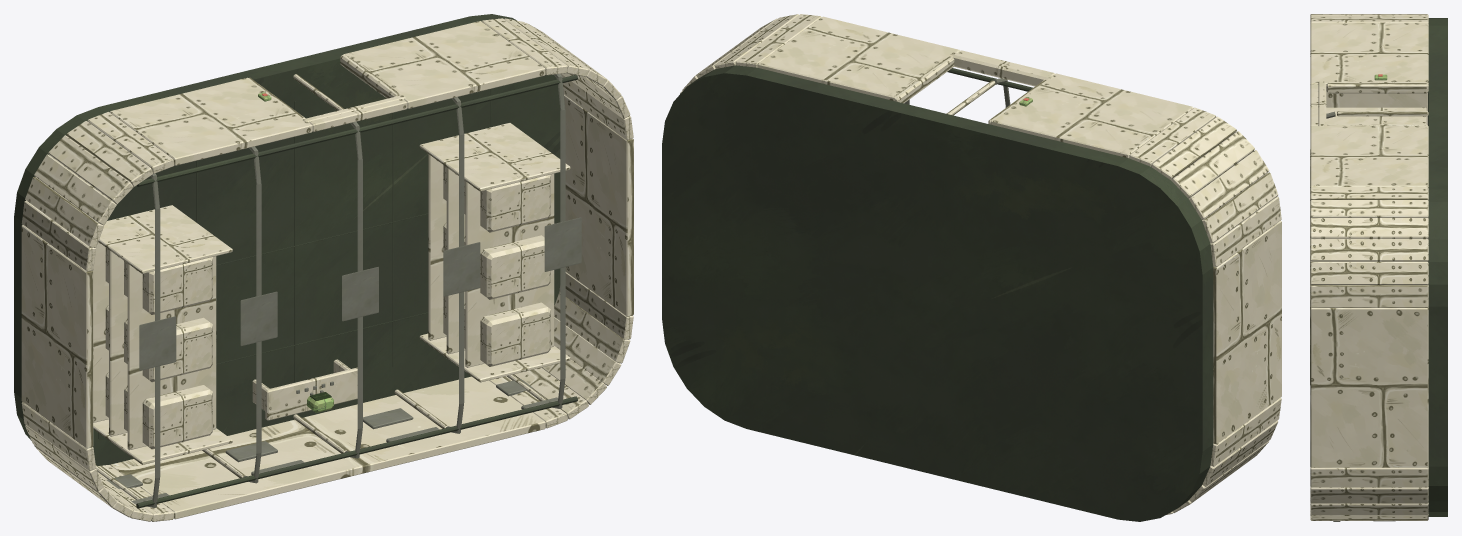
The model's file is ECHO7_24_Almacen_Logistica.obj.
3 renders of one model, left to right at view 1: azimuth 30°, elevation 25°; view 2: azimuth 150°, elevation 25°; view 3: azimuth 270°, elevation 25°, orthographic. The views are drawn at different scales.
Parts seen in each view (by area): view 1: ECHO7_24_Almacen_Logistica__Suelo_modulo_01, ECHO7_24_Almacen_Logistica__Pared_presion_07, ECHO7_24_Almacen_Logistica__Pared_presion_27, ECHO7_24_Almacen_Logistica__Pared_presion_14, ECHO7_24_Almacen_Logistica__Pared_frente_02, ECHO7_24_Almacen_Logistica__Pared_frente_01, ECHO7_24_Almacen_Logistica__Montante_archivo_01, ECHO7_24_Almacen_Logistica__Estante_archivo_06, ECHO7_24_Almacen_Logistica__Montante_archivo_03, ECHO7_24_Almacen_Logistica__Estante_archivo_03, ECHO7_24_Almacen_Logistica__Contenedor_catalogado_09, ECHO7_24_Almacen_Logistica__Contenedor_catalogado_08 (+44 smaller); view 2: ECHO7_24_Almacen_Logistica__Suelo_modulo_01, ECHO7_24_Almacen_Logistica__Pared_presion_27, ECHO7_24_Almacen_Logistica__Pared_frente_02, ECHO7_24_Almacen_Logistica__Pared_frente_01, ECHO7_24_Almacen_Logistica__Pared_presion_24, ECHO7_24_Almacen_Logistica__Pared_presion_23, ECHO7_24_Almacen_Logistica__Pared_presion_25, ECHO7_24_Almacen_Logistica__Pared_presion_22, ECHO7_24_Almacen_Logistica__Pared_presion_26, ECHO7_24_Almacen_Logistica__Pared_presion_21, ECHO7_24_Almacen_Logistica__Pared_presion_01, ECHO7_24_Almacen_Logistica__Dintel_puerta_01 (+4 smaller); view 3: ECHO7_24_Almacen_Logistica__Pared_presion_14, ECHO7_24_Almacen_Logistica__Suelo_modulo_01, ECHO7_24_Almacen_Logistica__Pared_frente_01, ECHO7_24_Almacen_Logistica__Pared_frente_02, ECHO7_24_Almacen_Logistica__Pared_presion_17, ECHO7_24_Almacen_Logistica__Pared_presion_15, ECHO7_24_Almacen_Logistica__Pared_presion_16, ECHO7_24_Almacen_Logistica__Pared_presion_18, ECHO7_24_Almacen_Logistica__Pared_presion_13, ECHO7_24_Almacen_Logistica__Pared_presion_19, ECHO7_24_Almacen_Logistica__Pared_presion_12, ECHO7_24_Almacen_Logistica__Pared_presion_27 (+11 smaller).
Boxes of the visible parts, x1,y1,x2,y2 form: ECHO7_24_Almacen_Logistica__Suelo_modulo_01: (14,14,560,465); ECHO7_24_Almacen_Logistica__Pared_presion_07: (110,376,545,519); ECHO7_24_Almacen_Logistica__Pared_presion_27: (21,225,93,448); ECHO7_24_Almacen_Logistica__Pared_presion_14: (564,94,633,316); ECHO7_24_Almacen_Logistica__Pared_frente_02: (109,77,312,165); ECHO7_24_Almacen_Logistica__Pared_frente_01: (343,21,545,108); ECHO7_24_Almacen_Logistica__Montante_archivo_01: (419,123,570,191); ECHO7_24_Almacen_Logistica__Estante_archivo_06: (127,256,216,450); ECHO7_24_Almacen_Logistica__Montante_archivo_03: (98,205,232,273); ECHO7_24_Almacen_Logistica__Estante_archivo_03: (465,173,554,367); ECHO7_24_Almacen_Logistica__Contenedor_catalogado_09: (480,302,550,366); ECHO7_24_Almacen_Logistica__Contenedor_catalogado_08: (480,235,550,299); ECHO7_24_Almacen_Logistica__Suelo_modulo_01: (662,65,1213,521); ECHO7_24_Almacen_Logistica__Pared_presion_27: (1213,220,1281,444); ECHO7_24_Almacen_Logistica__Pared_frente_02: (991,73,1193,158); ECHO7_24_Almacen_Logistica__Pared_frente_01: (757,16,960,100); ECHO7_24_Almacen_Logistica__Pared_presion_24: (1189,150,1269,219); ECHO7_24_Almacen_Logistica__Pared_presion_23: (1171,131,1254,198); ECHO7_24_Almacen_Logistica__Pared_presion_25: (1202,172,1278,243); ECHO7_24_Almacen_Logistica__Pared_presion_22: (1151,116,1236,180); ECHO7_24_Almacen_Logistica__Pared_presion_26: (1210,196,1281,267); ECHO7_24_Almacen_Logistica__Pared_presion_21: (1129,107,1215,166); ECHO7_24_Almacen_Logistica__Pared_presion_01: (1210,397,1281,466); ECHO7_24_Almacen_Logistica__Dintel_puerta_01: (950,52,1053,86); ECHO7_24_Almacen_Logistica__Pared_presion_14: (1310,307,1428,467); ECHO7_24_Almacen_Logistica__Suelo_modulo_01: (1428,18,1447,516); ECHO7_24_Almacen_Logistica__Pared_frente_01: (1310,125,1428,187); ECHO7_24_Almacen_Logistica__Pared_frente_02: (1310,22,1428,84); ECHO7_24_Almacen_Logistica__Pared_presion_17: (1310,238,1428,261); ECHO7_24_Almacen_Logistica__Pared_presion_15: (1310,284,1428,307); ECHO7_24_Almacen_Logistica__Pared_presion_16: (1310,262,1428,284); ECHO7_24_Almacen_Logistica__Pared_presion_18: (1310,217,1428,239); ECHO7_24_Almacen_Logistica__Pared_presion_13: (1310,467,1428,487); ECHO7_24_Almacen_Logistica__Pared_presion_19: (1310,200,1428,218); ECHO7_24_Almacen_Logistica__Pared_presion_12: (1310,487,1428,503); ECHO7_24_Almacen_Logistica__Pared_presion_27: (1326,92,1427,125).
Bounding box in the file's own units: 16.22 × 10.35 × 3.91.
6 materials, 6 textured.
